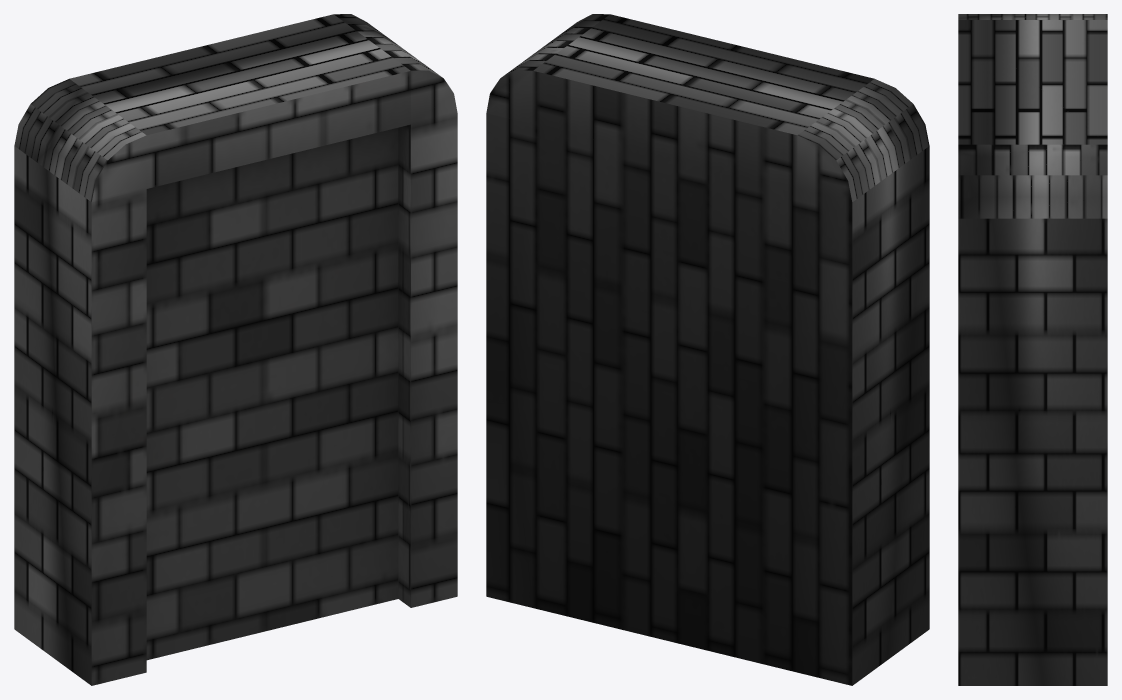
File: kamiennyportal.gltf
The picture shows the model from 3 angles, left to right: view 1: azimuth 30°, elevation 25°; view 2: azimuth 150°, elevation 25°; view 3: azimuth 270°, elevation 25°; orthographic projection. The views are drawn at different scales.
Visible parts, largest first — view 1: Cube.002; view 2: Cube.002; view 3: Cube.002.
Boxes of the visible parts, x1,y1,x2,y2 form: Cube.002: (14, 14, 457, 685); Cube.002: (486, 14, 929, 685); Cube.002: (958, 14, 1107, 685).
Size of the model in its own units: 2.81 by 3.95 by 1.03.
Materials: 1 (1 with a texture image).
